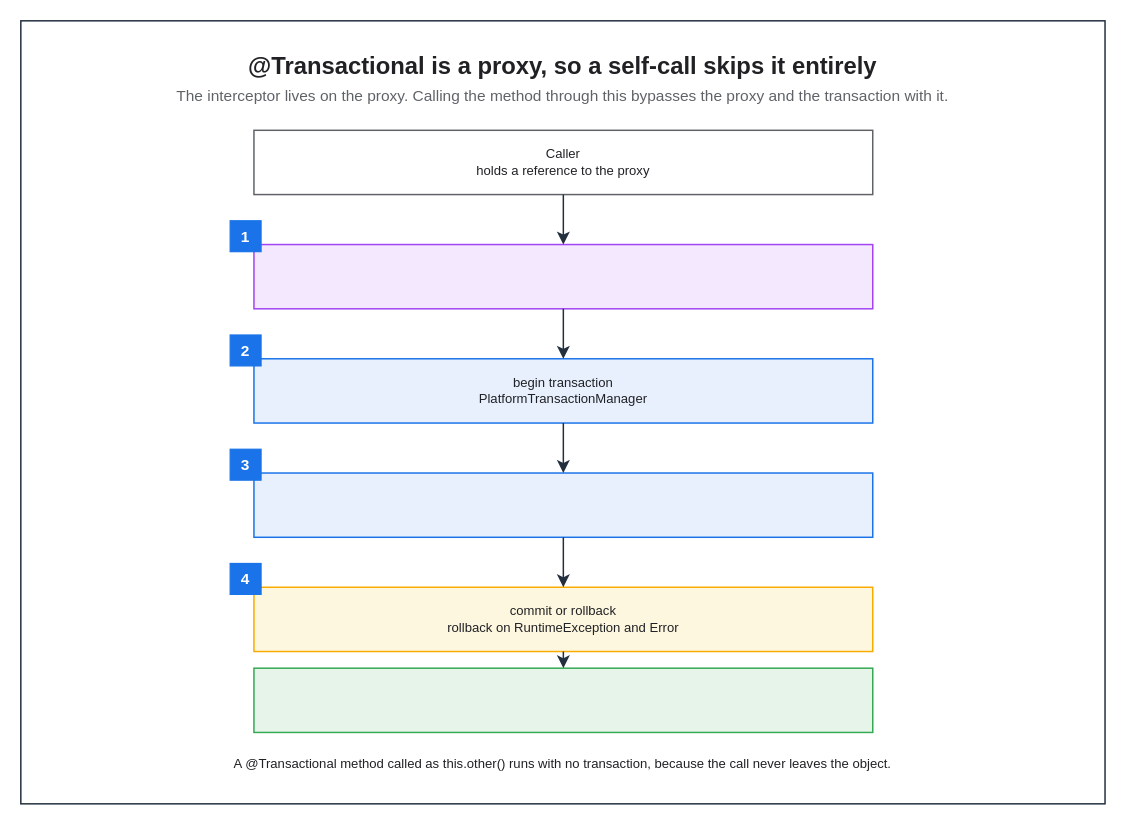
Image size: 1127x826. Some labels were removed from this diagram. The shapes that lost their labels are listed below. From the top down, each one's centre as x and y in pixels, then its label:
point 563,276: AOP proxy with TransactionInterceptor the only place the annotation is honoured
point 563,505: @Transactional method the persistence context is active here
point 563,700: Database
